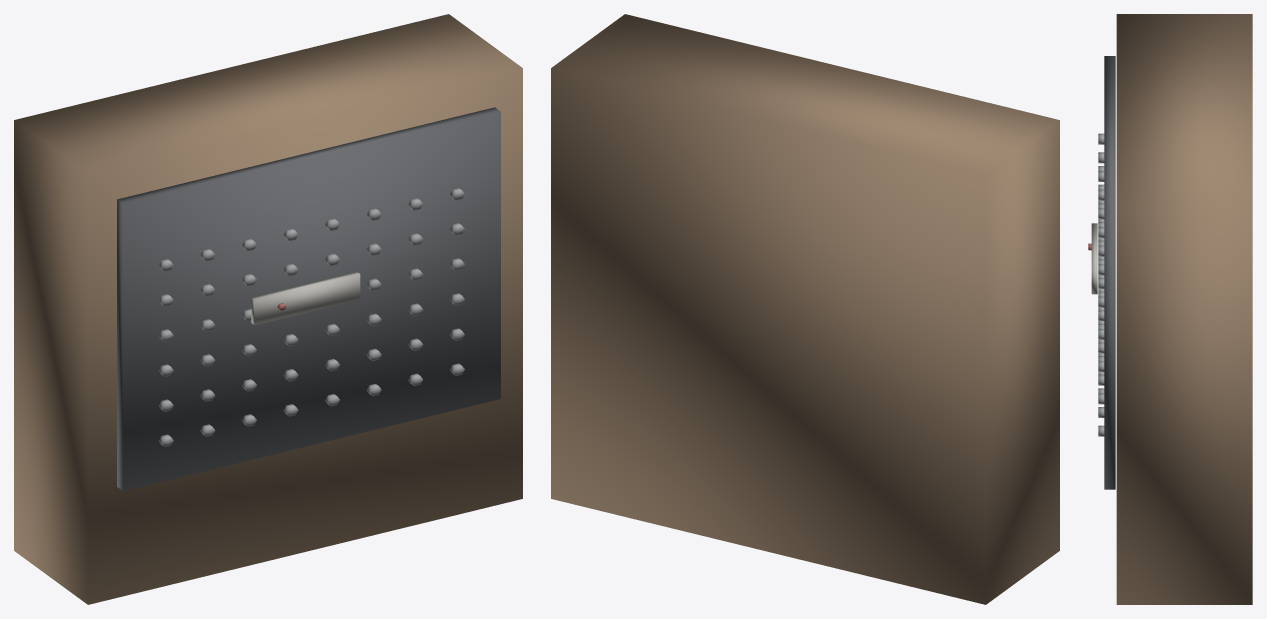
File: telephone_switchboard__wide.glb
The picture shows the model from 3 angles, left to right: view 1: azimuth 30°, elevation 25°; view 2: azimuth 150°, elevation 25°; view 3: azimuth 270°, elevation 25°; orthographic projection. The views are drawn at different scales.
Visible parts, largest first — view 1: world; view 2: world; view 3: world.
Boxes of the visible parts, box(x1,y1,x2,y2) form: world: box(14, 14, 522, 604); world: box(551, 14, 1059, 604); world: box(1088, 14, 1252, 604).
Bounding box in the file's own units: 1.43 × 1.35 × 0.507.
